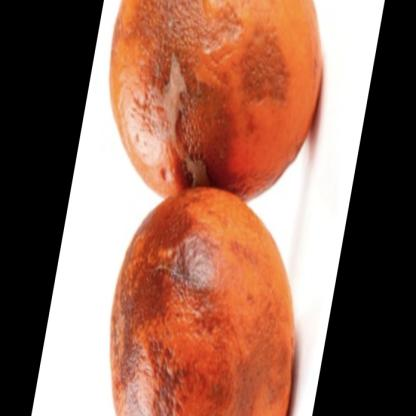rotten: (109, 1, 326, 416)
